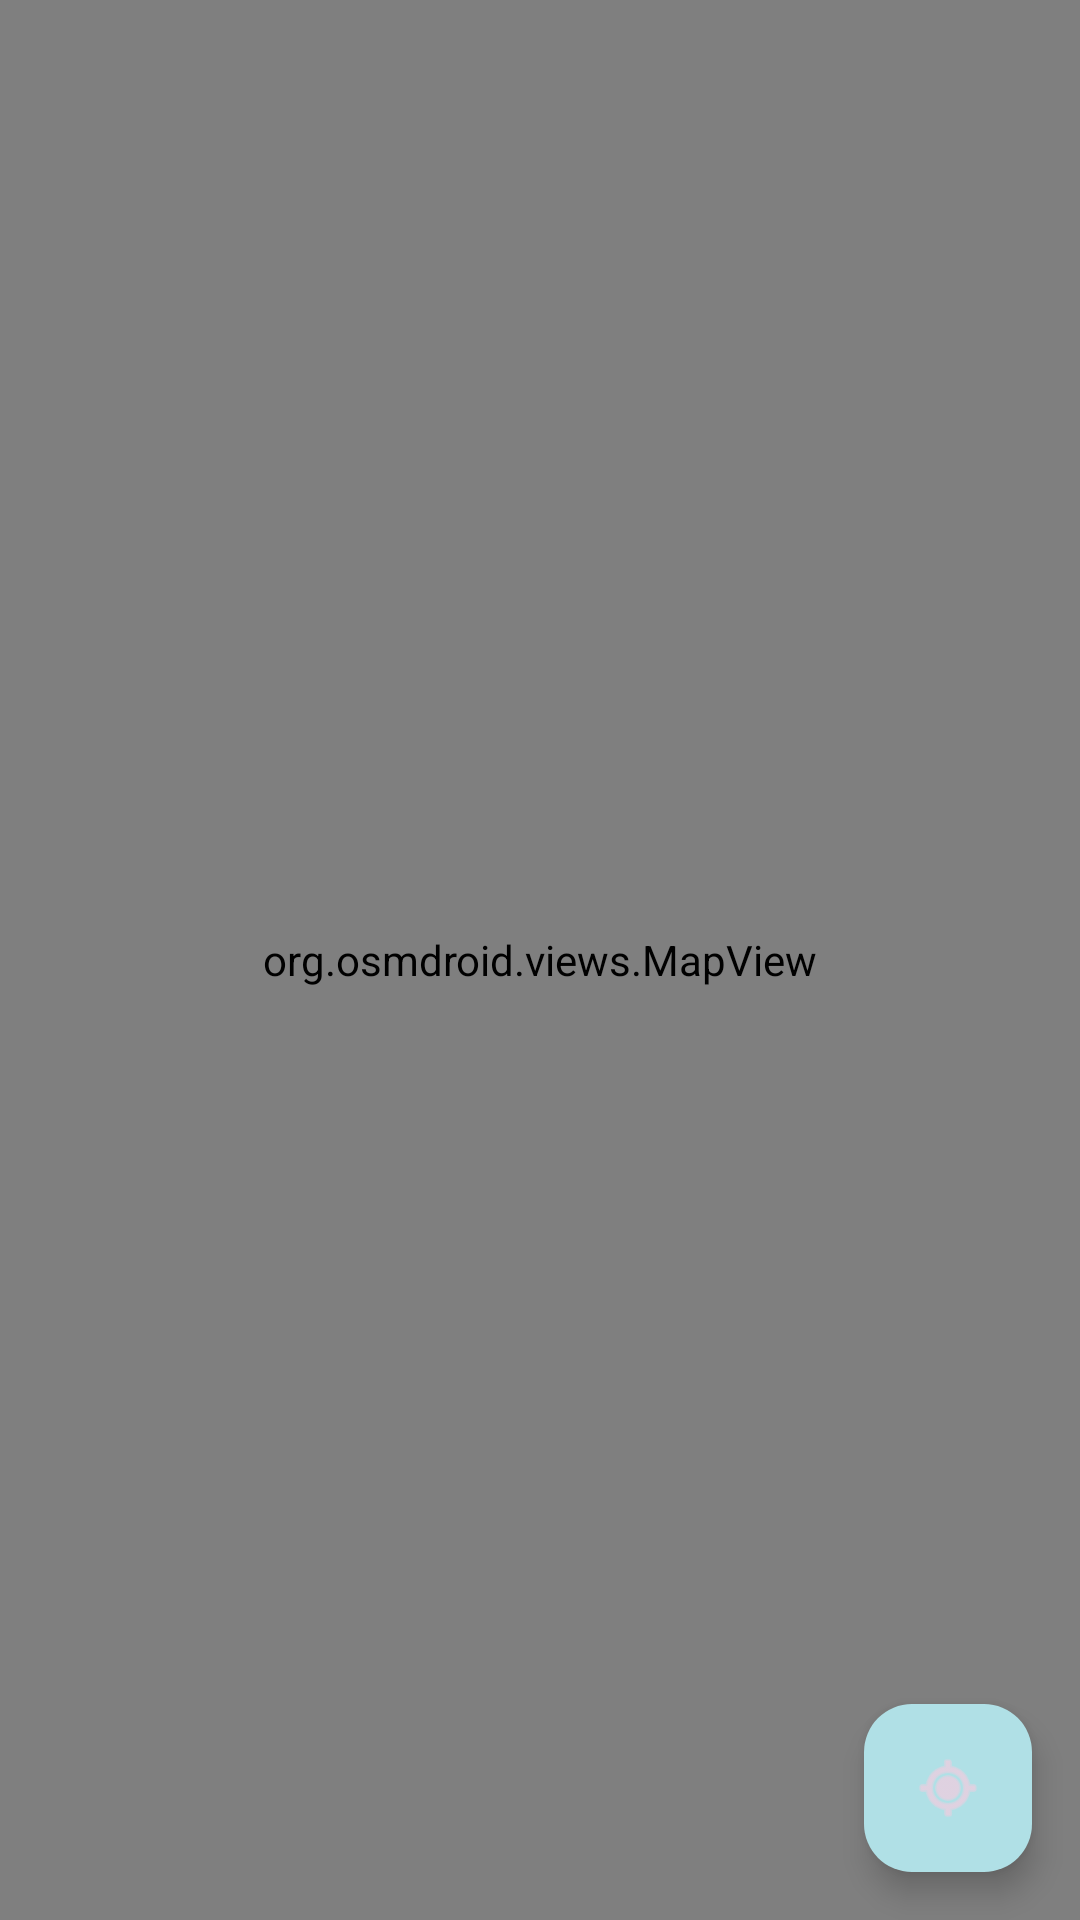

Where icons sit on this 1080*1920 app screen, as (x1, y1, x2, y2):
mylocation: (864, 1704, 1032, 1872)
